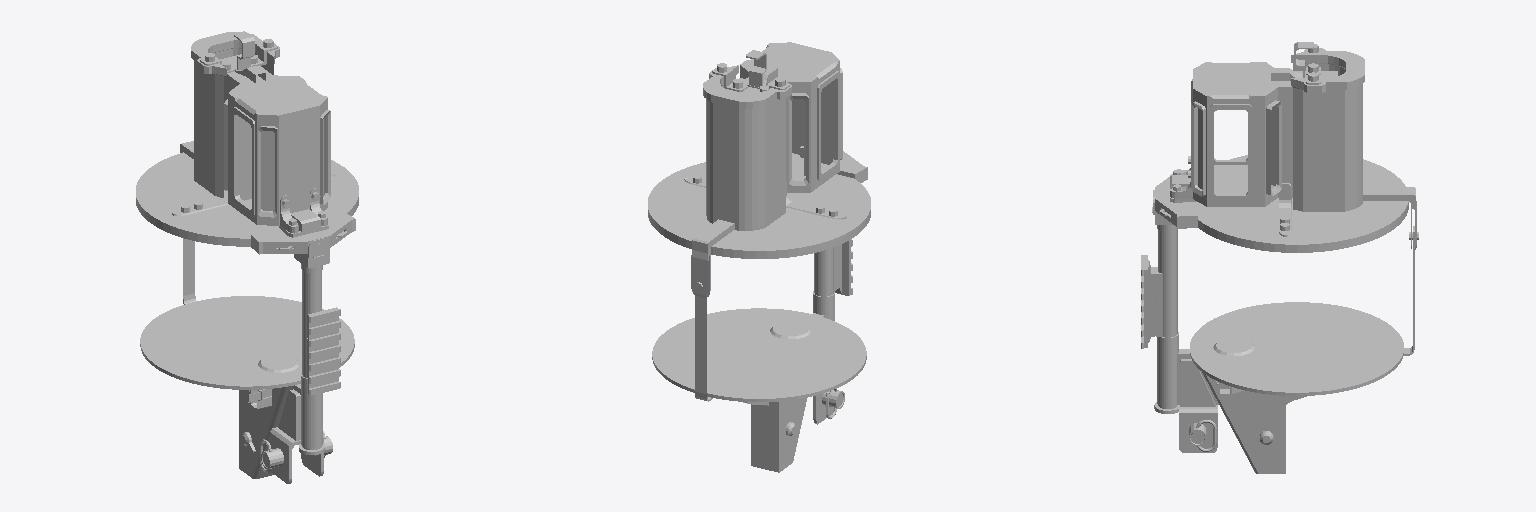
Rendered from GrenadeLauncherReceiver.obj.
3 renders of one model, left to right at view 1: azimuth 30°, elevation 25°; view 2: azimuth 150°, elevation 25°; view 3: azimuth 270°, elevation 25°, orthographic.
Parts seen in each view (by area): view 1: MachineGun:37; view 2: MachineGun:37; view 3: MachineGun:37.
Part boxes in pixels (bbox=[...]): MachineGun:37: bbox=[136, 31, 358, 483]; MachineGun:37: bbox=[648, 42, 870, 472]; MachineGun:37: bbox=[1141, 42, 1418, 473].
Size of the model in its own units: 13.14 by 27.3 by 16.32.